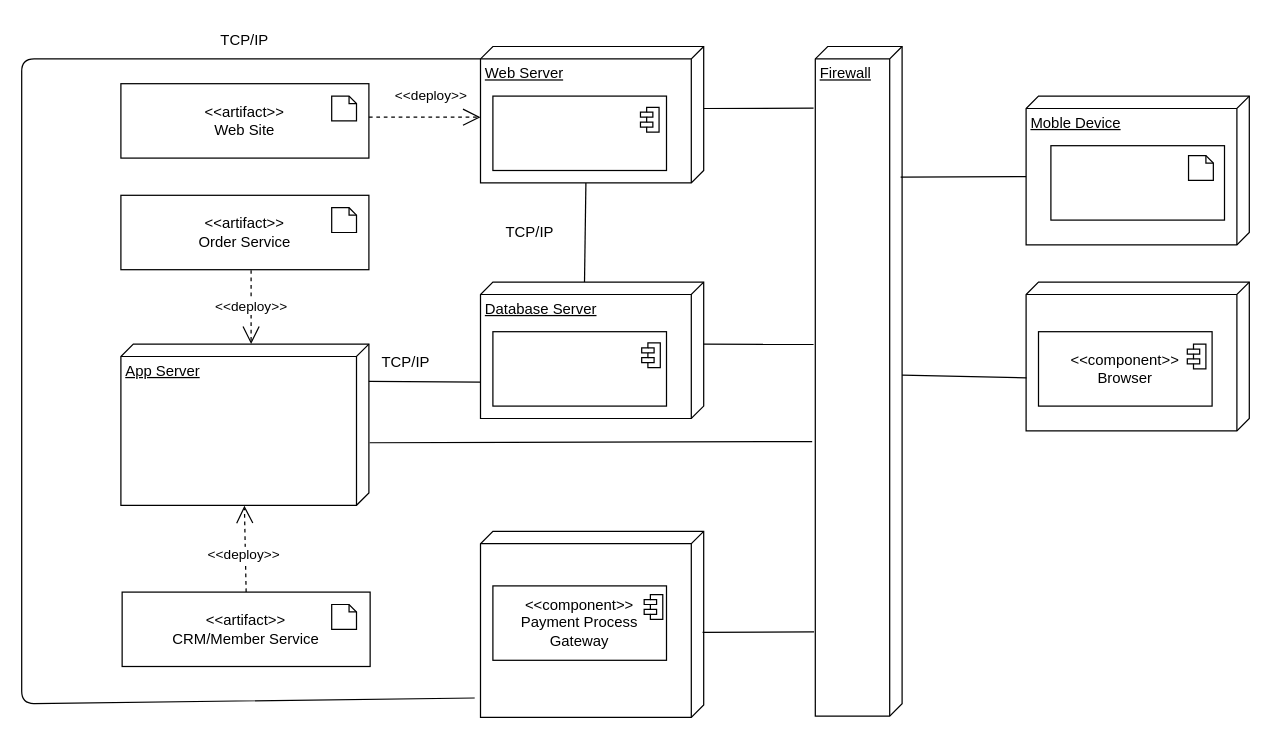
Image size: 1271x739. Some labels were removed from this diagram. Here are the shapes that lost their labels. From the top down, the box of each, then its label:
(492, 95, 666, 170): <<component>> Frontend Services
(1050, 144, 1224, 220): <<artifact>> Mobile App
(492, 330, 666, 406): <<component>> MySQL Server
(1025, 281, 1249, 431): End User Client
(479, 530, 704, 717): Payment Server
